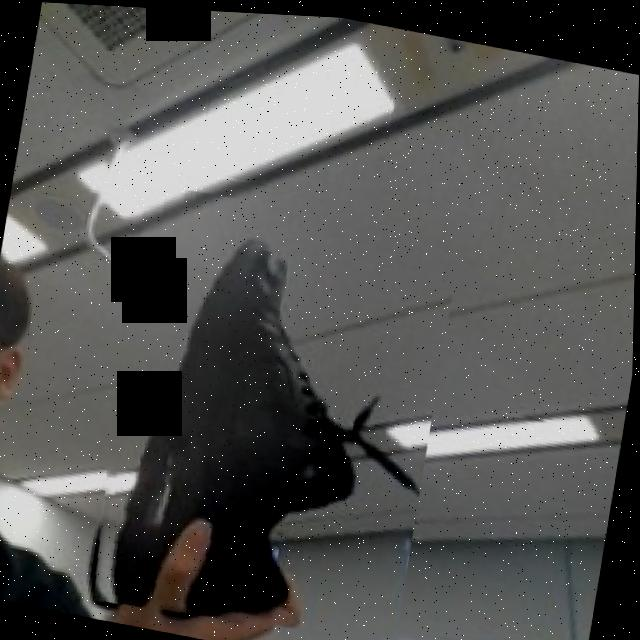shoe: (71, 176, 462, 640)
